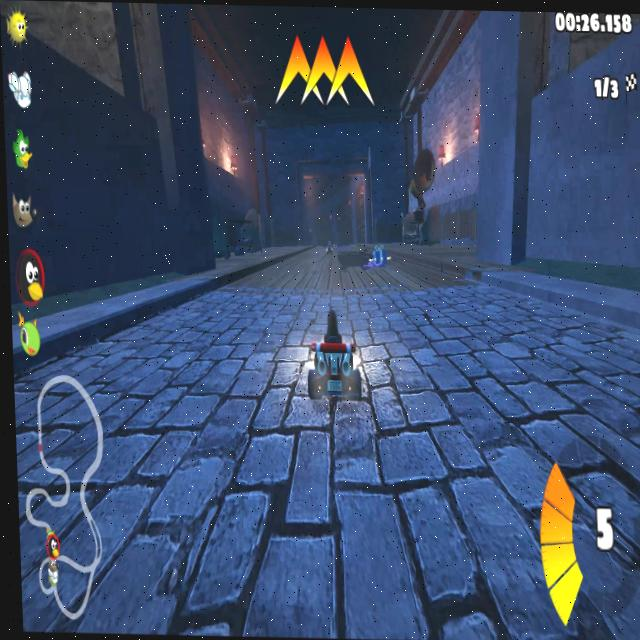bonus: (374, 248, 387, 266)
player_kart: (303, 309, 366, 412)
